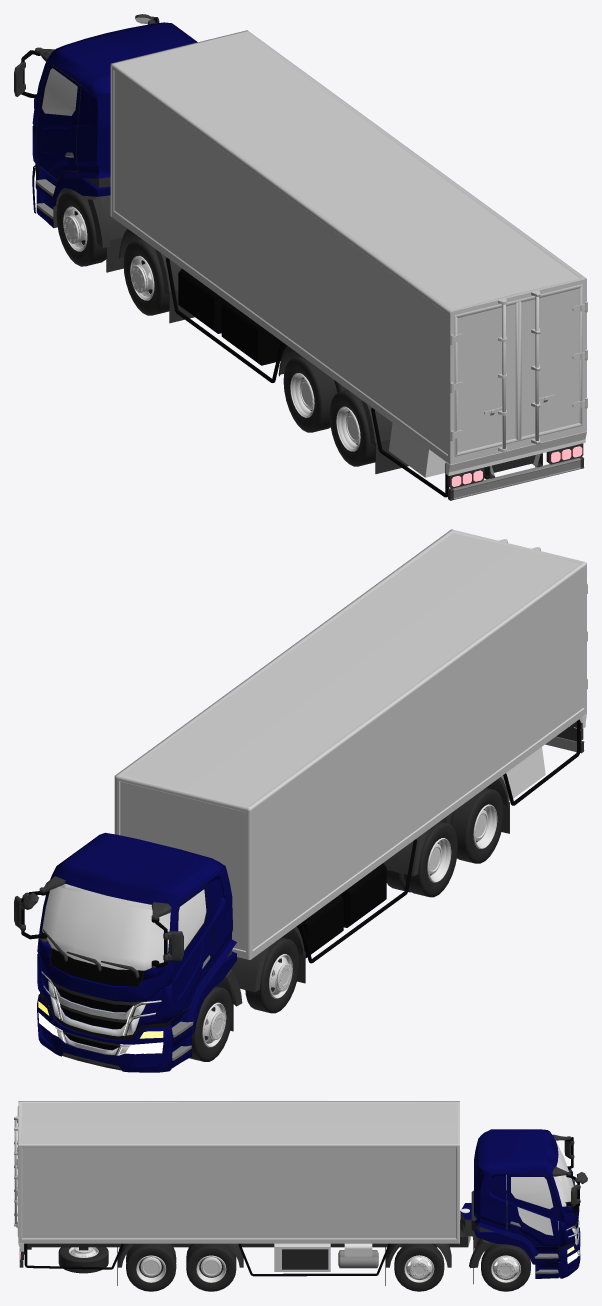
Rendered from truck_optim.glb.
3 views of the same model, one above another, from view 1: azimuth 30°, elevation 25°; view 2: azimuth 150°, elevation 25°; view 3: azimuth 270°, elevation 25° (orthographic). The views are drawn at different scales.
Visible parts, largest first — view 1: Truck_body, Truck_head_Truck_headL_1, wheels_Circle008_23, wheels_Circle001_5, wheels_Circle025_15, wheels_Circle013_26, wheels_Circle014_27, wheels_Circle012_24, wheels_Circle002_6, wheels_Circle024_14; view 2: Truck_body, Truck_head_Truck_headL_1, wheels_Circle013_26, wheels_Circle008_23, wheels_Circle025_15, wheels_Circle001_5, wheels_Circle014_27, wheels_Circle012_24, wheels_Circle002_6, wheels_Circle024_14; view 3: Truck_body, Truck_head_Truck_headL_1, wheels_Circle006_20, wheels_Circle010_18, wheels_Circle028_11, wheels_Circle027_9, wheels_Circle029_12, wheels_Circle026_8, wheels_Circle009_17, wheels_Circle007_21.
Part boxes in pixels (x1=…): Truck_body: x1=110, y1=30, x2=587, y2=500; Truck_head_Truck_headL_1: x1=14, y1=14, x2=197, y2=272; wheels_Circle008_23: x1=283, y1=356, x2=347, y2=432; wheels_Circle001_5: x1=56, y1=190, x2=106, y2=266; wheels_Circle025_15: x1=123, y1=239, x2=169, y2=315; wheels_Circle013_26: x1=329, y1=390, x2=375, y2=466; wheels_Circle014_27: x1=336, y1=406, x2=360, y2=451; wheels_Circle012_24: x1=290, y1=373, x2=314, y2=417; wheels_Circle002_6: x1=63, y1=206, x2=87, y2=251; wheels_Circle024_14: x1=130, y1=255, x2=154, y2=300; Truck_body: x1=114, y1=529, x2=587, y2=992; Truck_head_Truck_headL_1: x1=14, y1=832, x2=242, y2=1072; wheels_Circle013_26: x1=440, y1=787, x2=503, y2=863; wheels_Circle008_23: x1=386, y1=821, x2=457, y2=897; wheels_Circle025_15: x1=245, y1=937, x2=299, y2=1013; wheels_Circle001_5: x1=189, y1=986, x2=232, y2=1061; wheels_Circle014_27: x1=473, y1=804, x2=497, y2=848; wheels_Circle012_24: x1=427, y1=838, x2=451, y2=882; wheels_Circle002_6: x1=202, y1=1002, x2=226, y2=1047; wheels_Circle024_14: x1=269, y1=954, x2=292, y2=998; Truck_body: x1=14, y1=1101, x2=470, y2=1285; Truck_head_Truck_headL_1: x1=460, y1=1129, x2=587, y2=1284; wheels_Circle006_20: x1=126, y1=1243, x2=176, y2=1291; wheels_Circle010_18: x1=186, y1=1243, x2=236, y2=1291; wheels_Circle028_11: x1=394, y1=1243, x2=444, y2=1291; wheels_Circle027_9: x1=481, y1=1243, x2=530, y2=1291; wheels_Circle029_12: x1=404, y1=1255, x2=434, y2=1282; wheels_Circle026_8: x1=491, y1=1255, x2=520, y2=1282; wheels_Circle009_17: x1=196, y1=1255, x2=226, y2=1282; wheels_Circle007_21: x1=136, y1=1255, x2=166, y2=1282.
Bounding box in the file's own units: 4.48 × 5.87 × 20.68.
